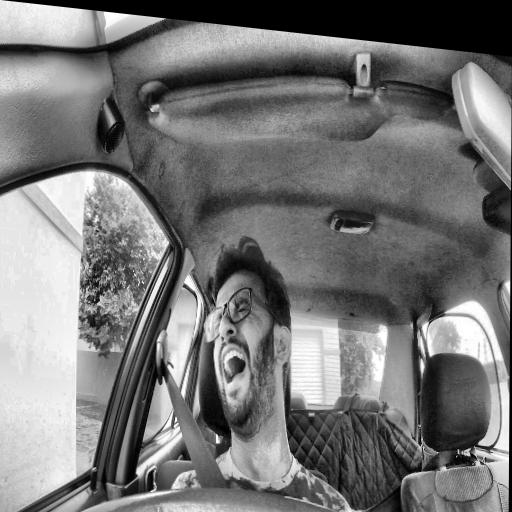drowsy: (203, 230, 293, 439)
